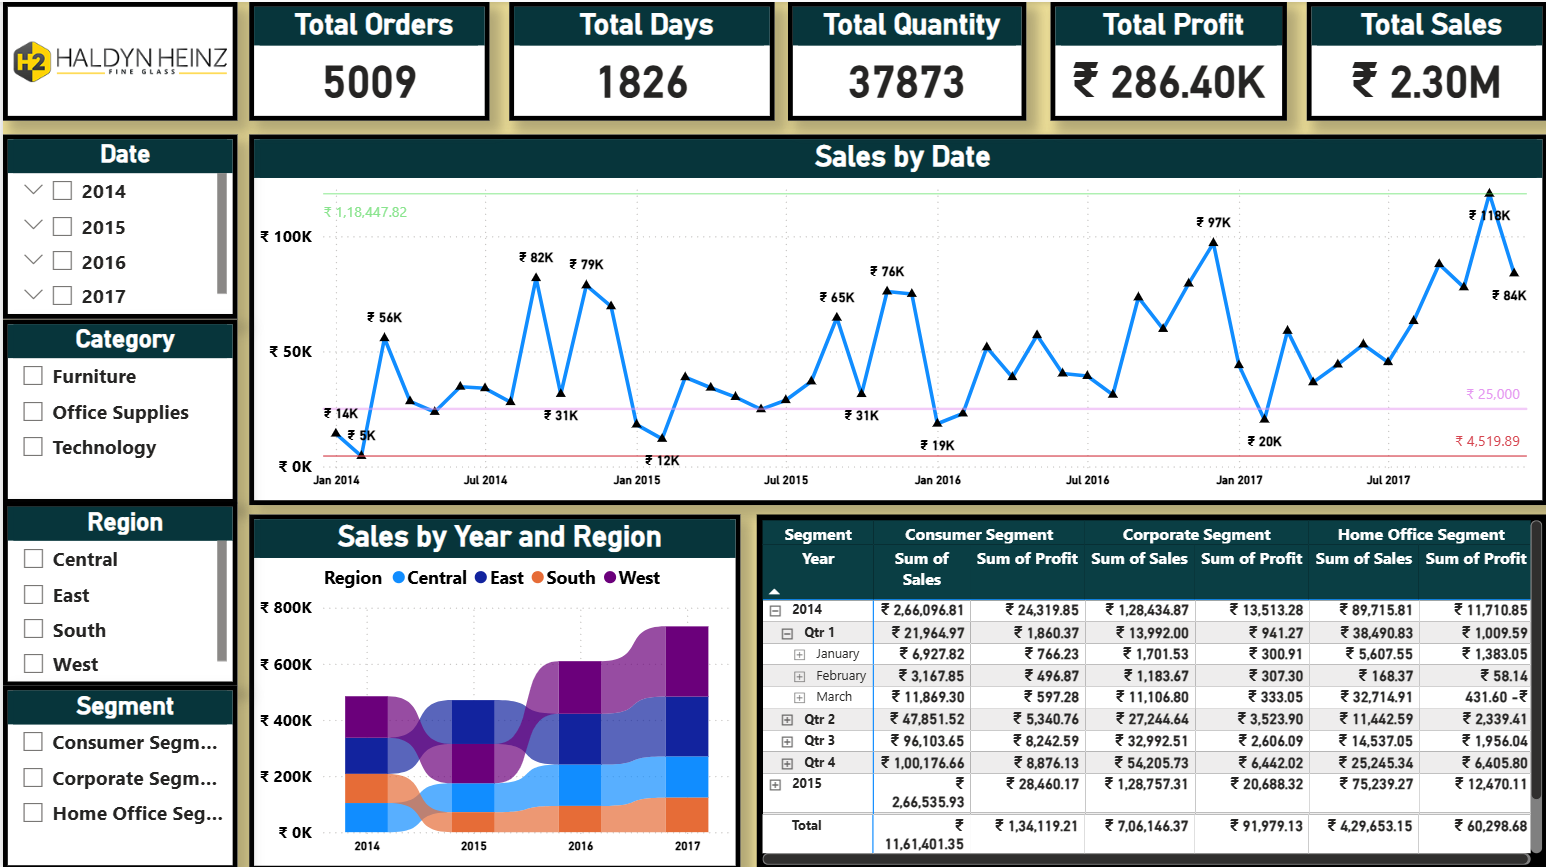

What the dashboard file says about the page in this screenshot:
{"tool":"powerbi","page":{"name":"Time Series Analysis","canvas":[1280,720],"ordinal":3},"visuals":[{"type":"card","title":"Total Days","fields":{"Values":["CountNonNull(Orders.Ship Date.Variation.Date Hierarchy.Day)"]},"box":[420.2,0,219.8,98.8],"z":0},{"type":"lineChart","title":"Sales by Date","fields":{"Category":["Orders.Order Date.Variation.Date Hierarchy.Year","Orders.Order Date.Variation.Date Hierarchy.Quarter","Orders.Order Date.Variation.Date Hierarchy.Month","Orders.Order Date.Variation.Date Hierarchy.Day"],"Y":["Sum(Orders.Sales)"]},"box":[204.5,109.8,1075.8,307.4],"z":1000},{"type":"ribbonChart","title":"Sales by Year and Region","fields":{"Category":["Orders.Order Date.Variation.Date Hierarchy.Year"],"Y":["Sum(Orders.Sales)"],"Series":["Orders.Region"]},"box":[204.5,425.4,407.5,295],"z":2000},{"type":"pivotTable","fields":{"Rows":["Orders.Order Date.Variation.Date Hierarchy.Year","Orders.Order Date.Variation.Date Hierarchy.Quarter","Orders.Order Date.Variation.Date Hierarchy.Month","Orders.Order Date.Variation.Date Hierarchy.Day"],"Values":["Sum(Orders.Sales)","Sum(Orders.Profit)"],"Columns":["Orders.Segment"]},"box":[624.4,425.4,655.9,295],"z":3000},{"type":"image","box":[0,0,194.8,98.8],"z":4000},{"type":"slicer","title":"Date","fields":{"Values":["Orders.Order Date.Variation.Date Hierarchy.Year","Orders.Order Date.Variation.Date Hierarchy.Quarter","Orders.Order Date.Variation.Date Hierarchy.Month","Orders.Order Date.Variation.Date Hierarchy.Day"]},"box":[0,109.9,194.8,153],"z":5000},{"type":"slicer","title":"Category","fields":{"Values":["Orders.Category"]},"box":[0,263,194.8,153],"z":6000},{"type":"slicer","title":"Region","fields":{"Values":["Orders.Region"]},"box":[0,414.6,194.8,153],"z":7000},{"type":"slicer","title":"Segment","fields":{"Values":["Orders.Segment"]},"box":[0,567,194.8,153],"z":8000},{"type":"card","title":"Total Sales","fields":{"Values":["Sum(Orders.Sales)"]},"box":[1081,0,199,98.8],"z":9000},{"type":"card","title":"Total Quantity","fields":{"Values":["Sum(Orders.Quantity)"]},"box":[651.1,0,197.6,98.8],"z":10000},{"type":"card","title":"Total Orders","fields":{"Values":["Count(Orders.Order ID)"]},"box":[204.5,0,199,98.8],"z":11000},{"type":"card","title":"Total Profit","fields":{"Values":["Sum(Orders.Profit)"]},"box":[868.2,0,196.2,98.8],"z":12000}]}

Visuals, with their boxes in screenshot pixels (x1, y1, x2, y2), scaled from the page's 1280x720 canvas onto the 1546x867 screenshot:
"Total Days" card: {"left": 508, "top": 0, "right": 773, "bottom": 119}
"Sales by Date" lineChart: {"left": 247, "top": 132, "right": 1545, "bottom": 502}
"Sales by Year and Region" ribbonChart: {"left": 247, "top": 512, "right": 739, "bottom": 866}
pivotTable - Orders.Order Date.Variation.Date Hierarchy.Year x Orders.Order Date.Variation.Date Hierarchy.Quarter: {"left": 754, "top": 512, "right": 1545, "bottom": 866}
image: {"left": 0, "top": 0, "right": 235, "bottom": 119}
"Date" slicer: {"left": 0, "top": 132, "right": 235, "bottom": 317}
"Category" slicer: {"left": 0, "top": 317, "right": 235, "bottom": 501}
"Region" slicer: {"left": 0, "top": 499, "right": 235, "bottom": 683}
"Segment" slicer: {"left": 0, "top": 683, "right": 235, "bottom": 866}
"Total Sales" card: {"left": 1306, "top": 0, "right": 1545, "bottom": 119}
"Total Quantity" card: {"left": 786, "top": 0, "right": 1025, "bottom": 119}
"Total Orders" card: {"left": 247, "top": 0, "right": 487, "bottom": 119}
"Total Profit" card: {"left": 1049, "top": 0, "right": 1286, "bottom": 119}
